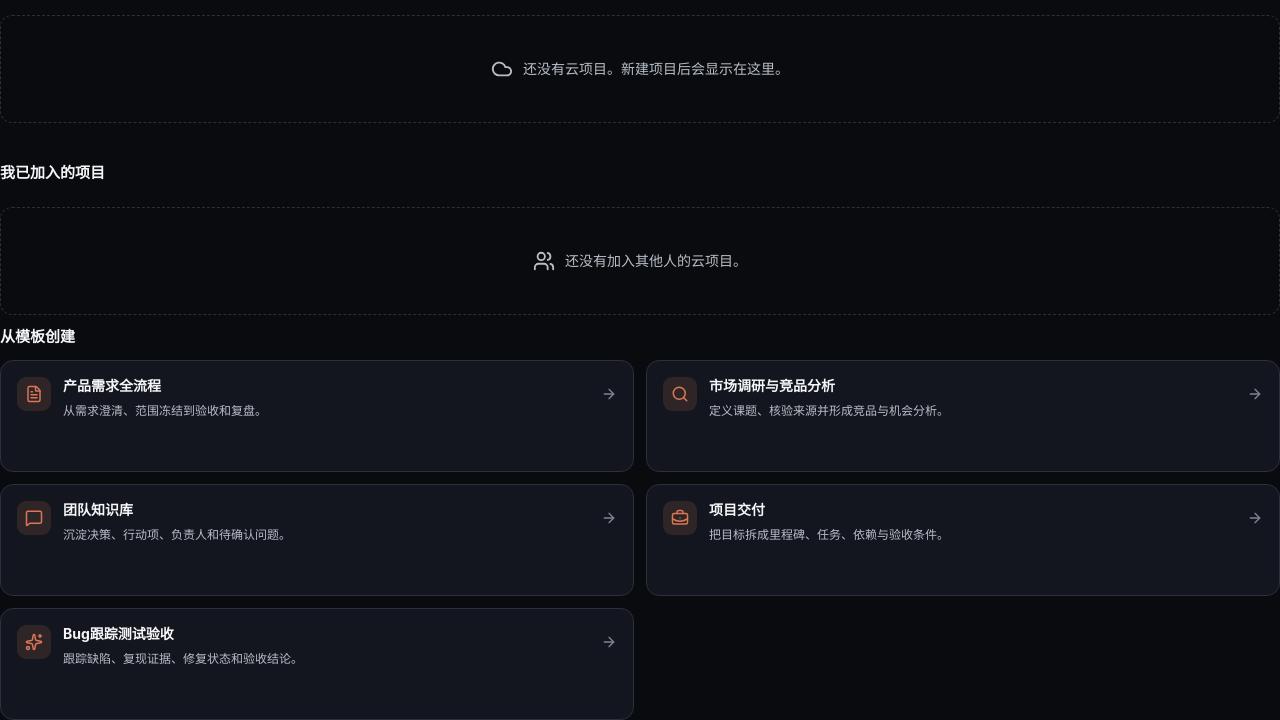
WorkBuddy CloudProject production surface › Goal 12 announces mutation failures without blaming a valid project name
This screenshot has width=1280, height=720.
(page scrolled)
Expected: the heading "从模板创建" is shown, [0,327,75,348]
Click the button "产品需求全流程 从需求澄清、范围冻结到验收和复盘。".
click(34, 394)  # box [0,360,634,472]
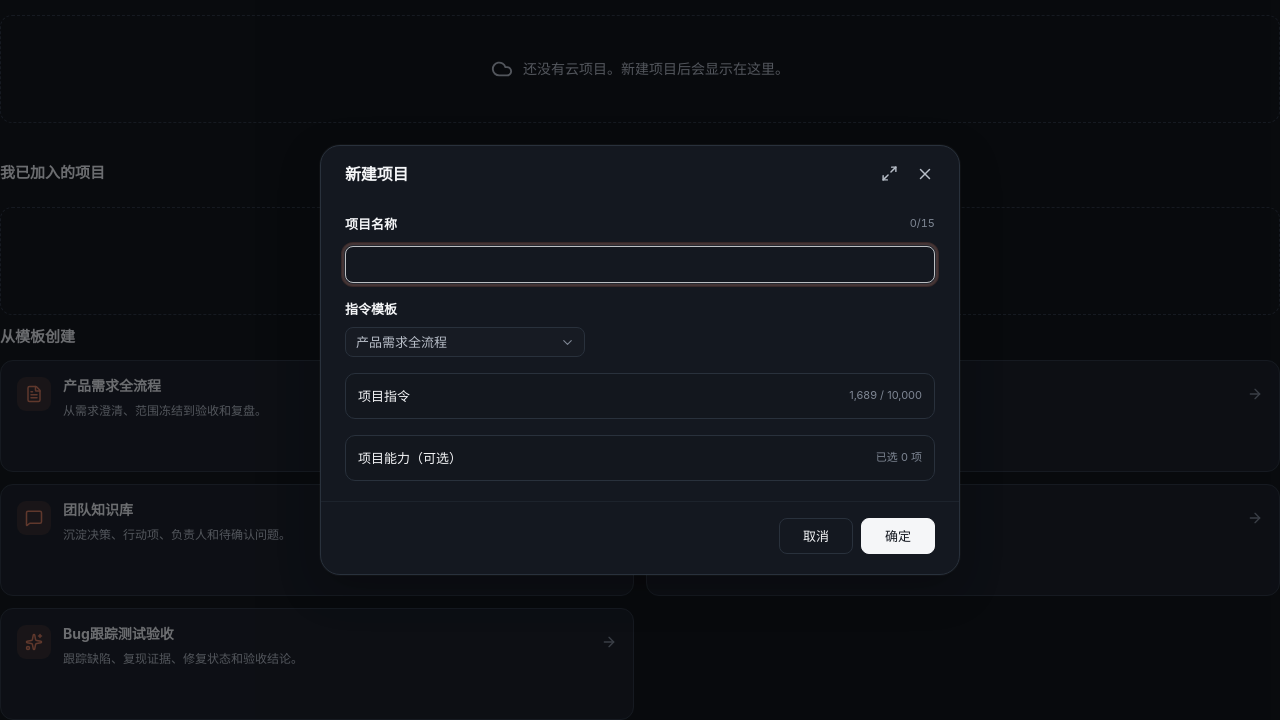
Click the button "确定".
click(898, 536)  # box [861,518,935,554]
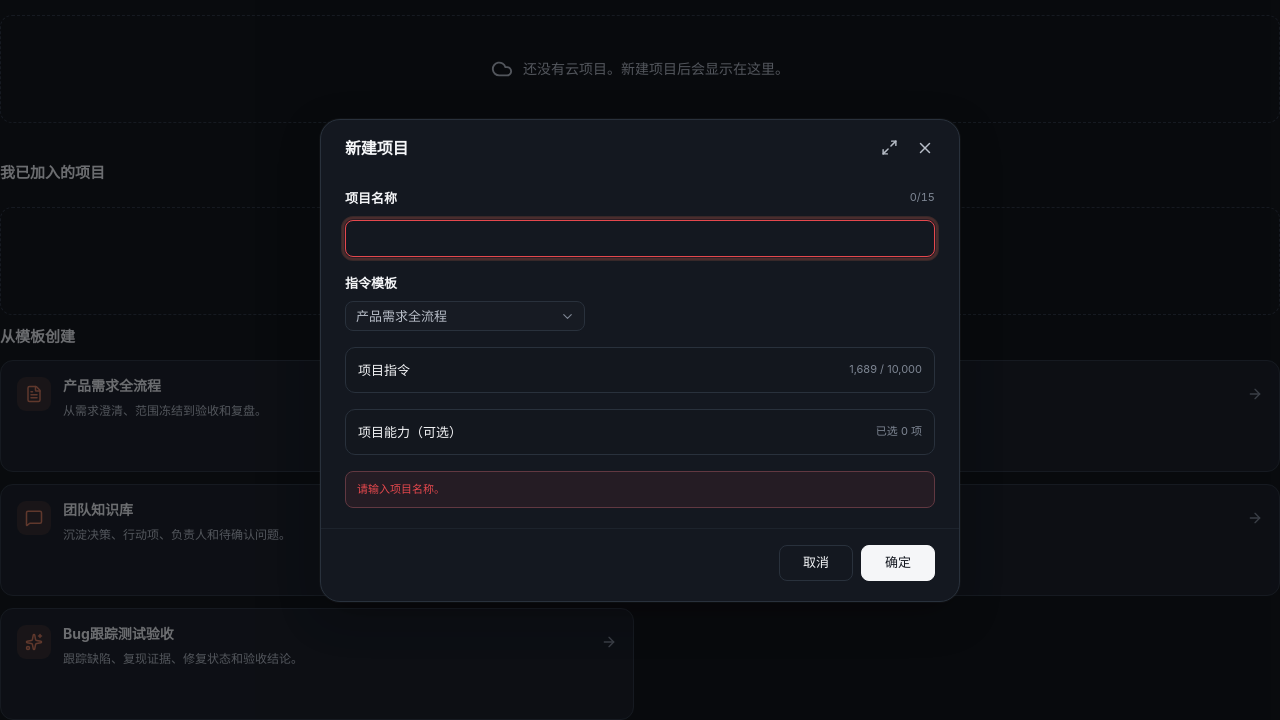
Expected: the field labelled "项目名称" is marked as invalid
Type "有效项目名" into the field labelled "项目名称".
click(640, 238); type("有效项目名")  # box [345,220,935,257]
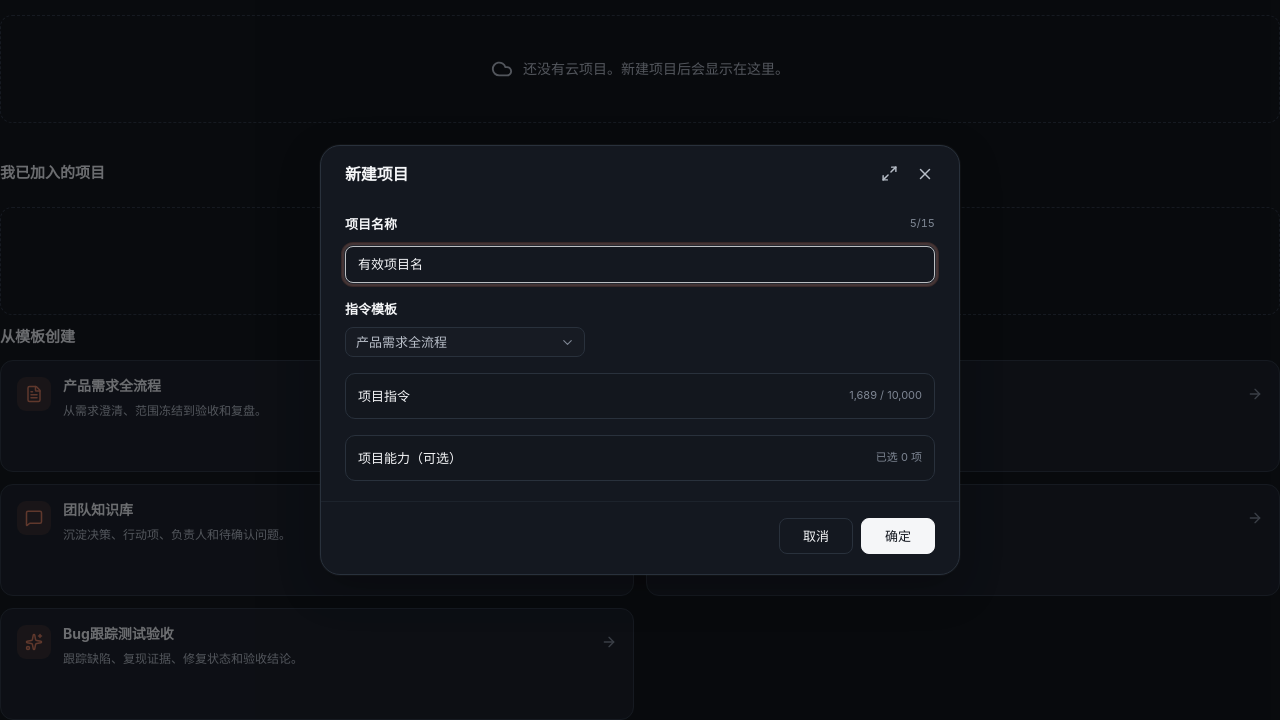
Expected: the field labelled "项目名称" does not have attribute aria-invalid="true", [345,246,935,283]
Click the button "确定".
click(898, 536)  # box [861,518,935,554]
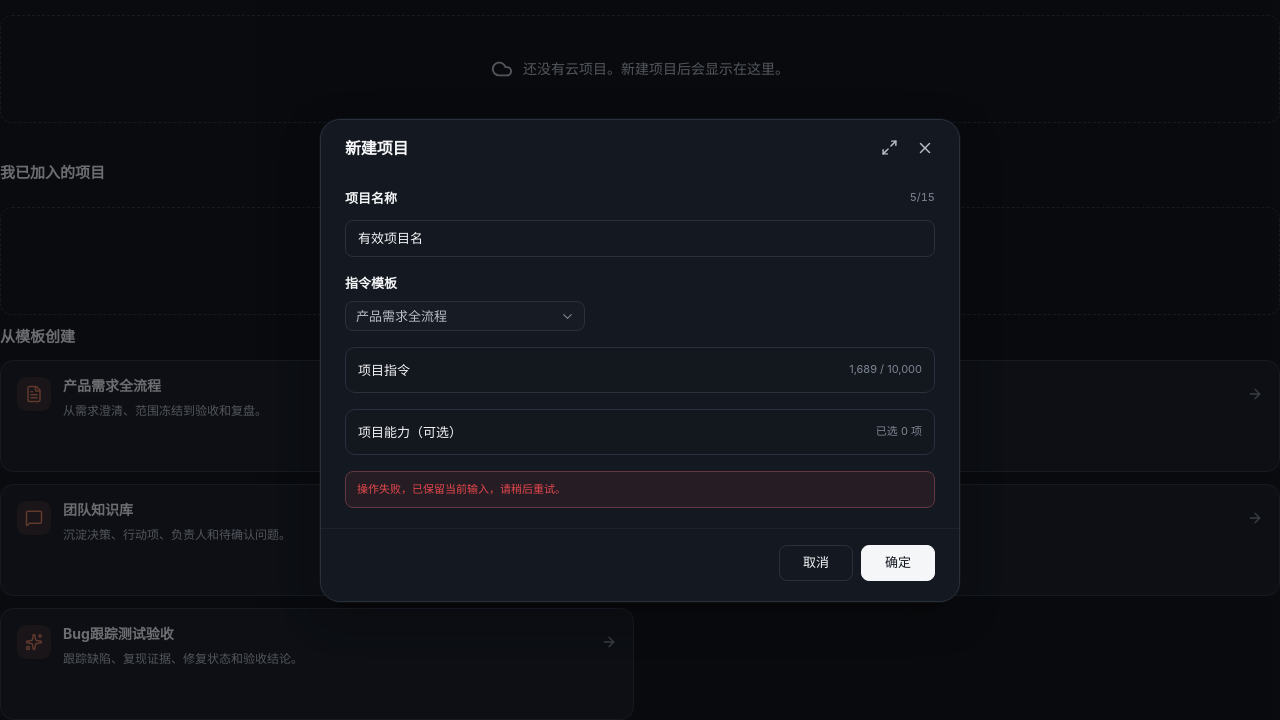
Expected: the message "操作失败，已保留当前输入，请稍后重试。" is shown, [345,471,935,508]
